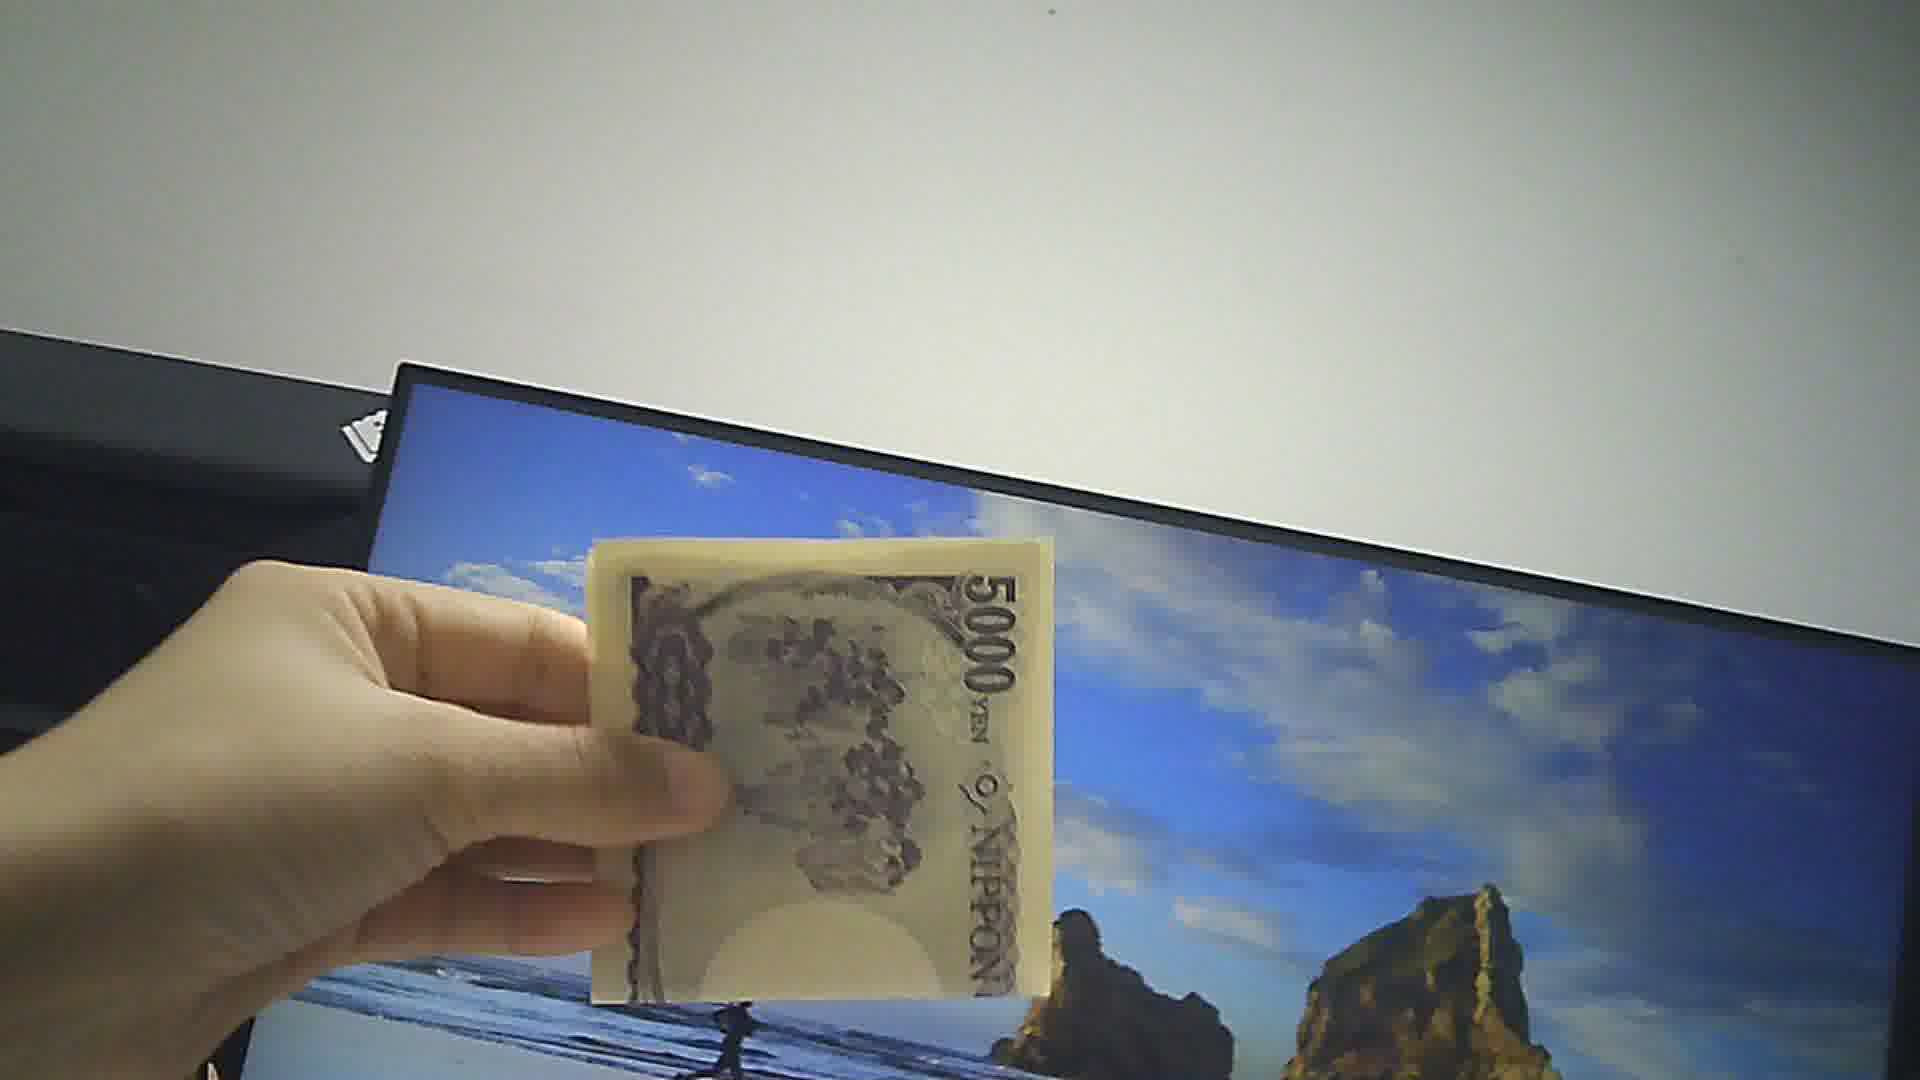5,000 Yen: (556, 512, 1083, 1031)
